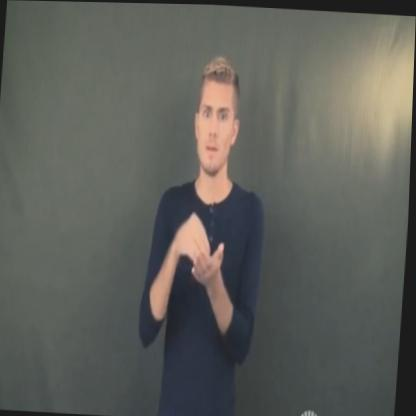Expensive: (161, 202, 231, 308)
